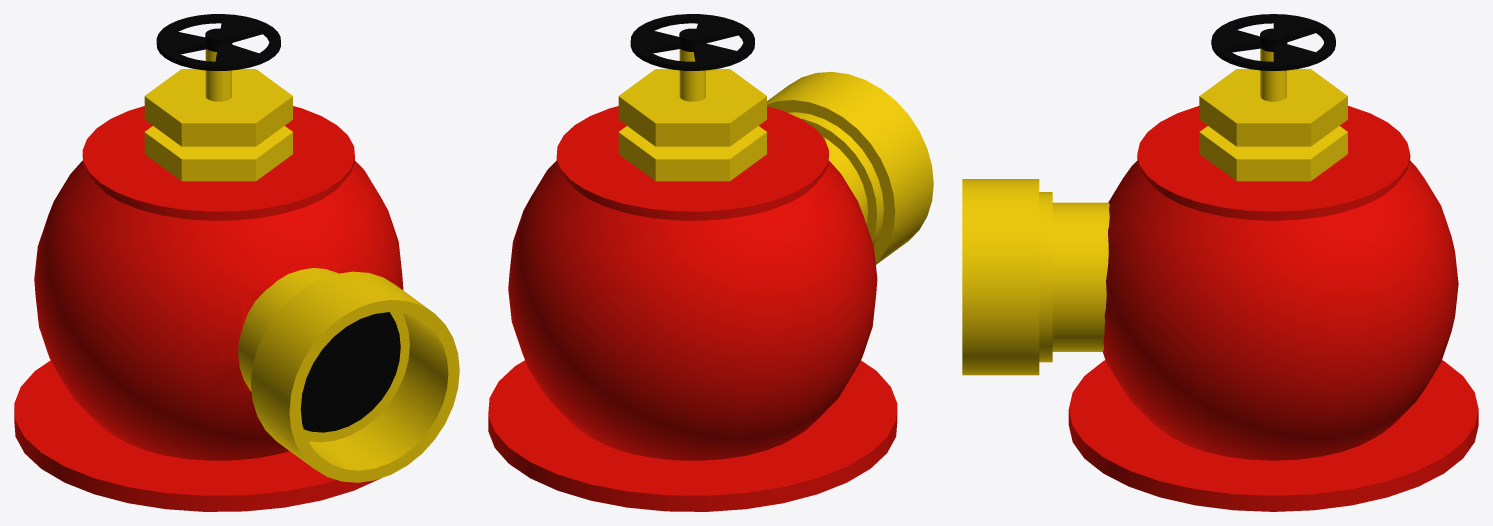
File: Hydrant Valve Fix.fbx
3 renders of one model, left to right at view 1: azimuth 30°, elevation 25°; view 2: azimuth 150°, elevation 25°; view 3: azimuth 270°, elevation 25°, orthographic.
Visible parts, largest first — view 1: Cylinder; view 2: Cylinder; view 3: Cylinder.
Part boxes in pixels (x1,y1,x2,y2): Cylinder: (14, 14, 459, 511); Cylinder: (488, 14, 933, 511); Cylinder: (962, 14, 1478, 511).
Bounding box in the file's own units: 47.06 × 49.54 × 59.29.
